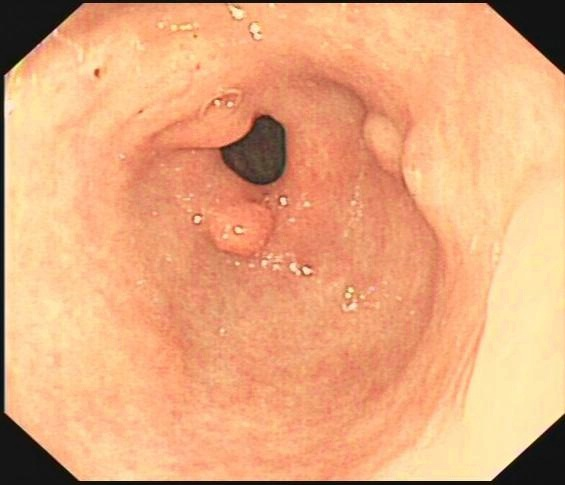Polyp: (210, 199, 277, 261)
